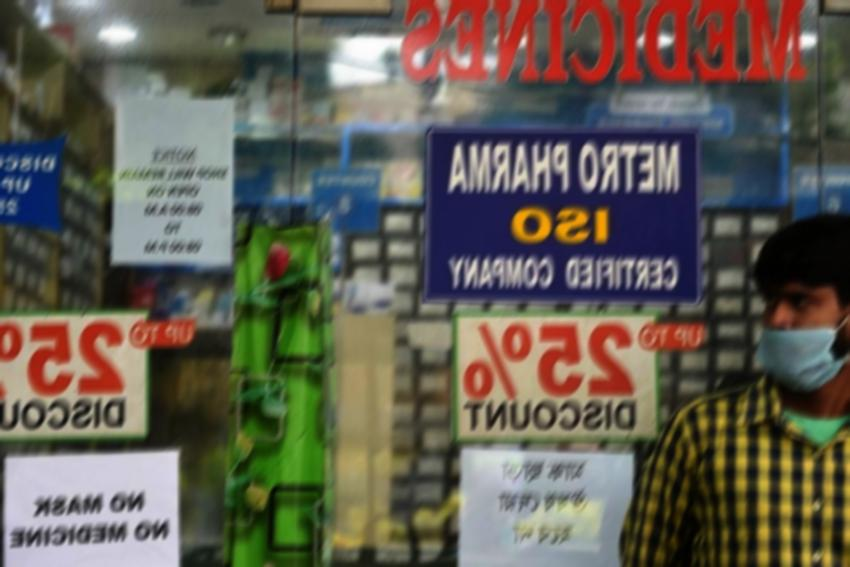mask_weared_incorrect: (741, 242, 847, 406)
